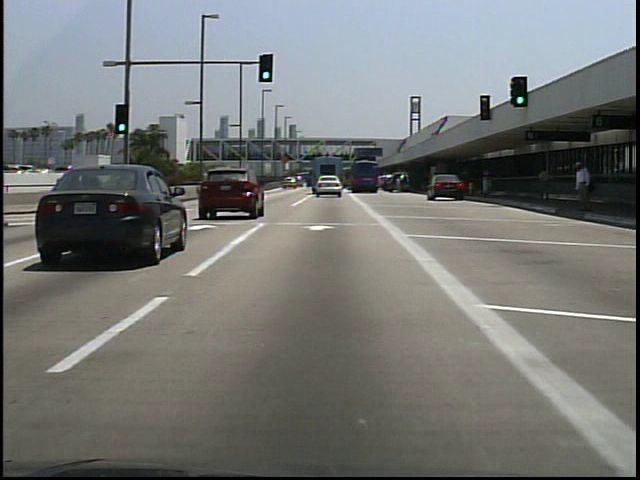person: (569, 156, 591, 217), (532, 158, 553, 205)
